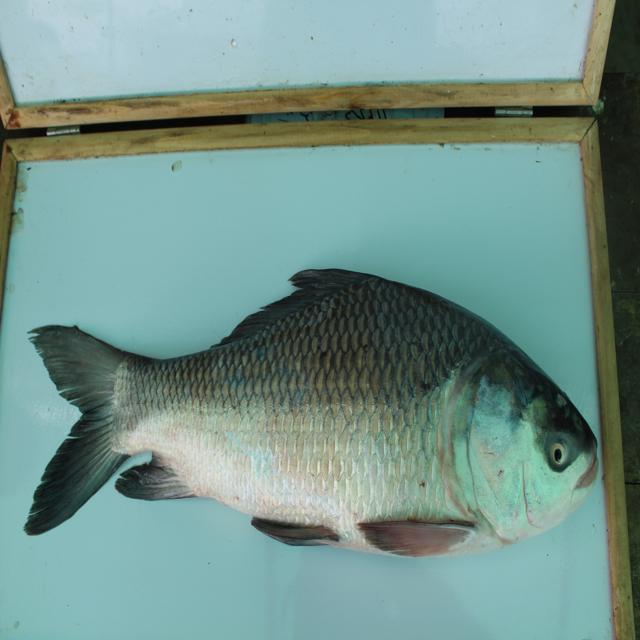Catla: (19, 264, 598, 564)
